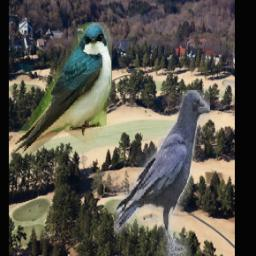Crow: (115, 91, 211, 256)
Swallow: (13, 22, 113, 153)
